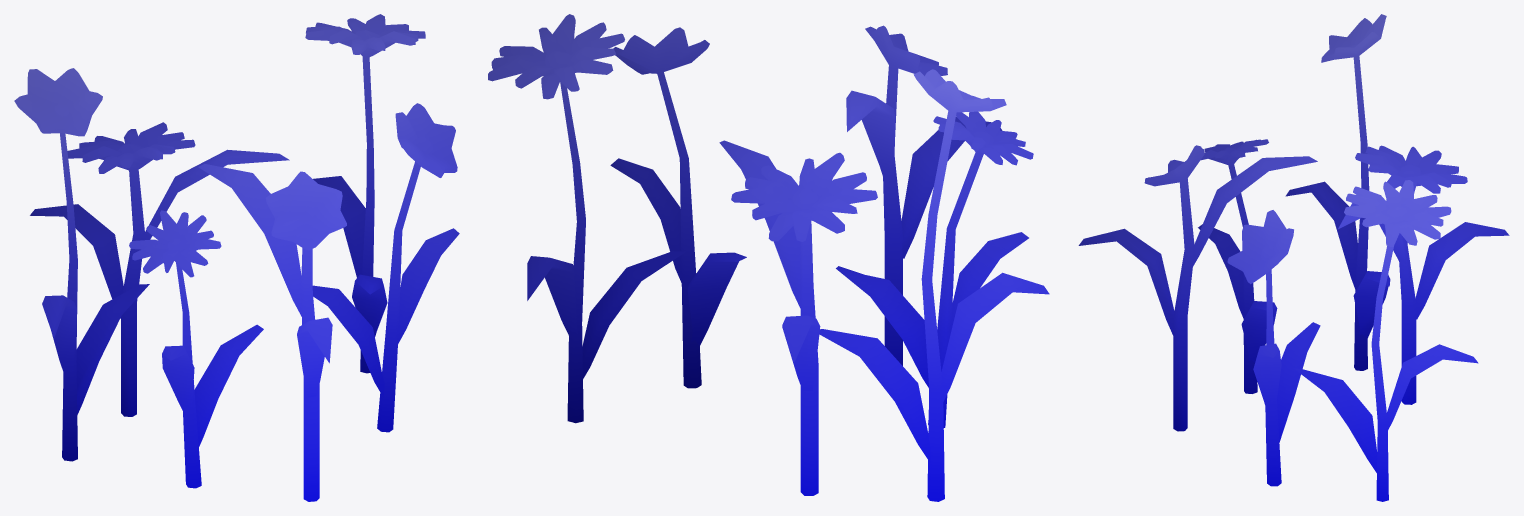
File: SM_Env_Wildflowers_02.FBX
3 renders of one model, left to right at view 1: azimuth 30°, elevation 25°; view 2: azimuth 150°, elevation 25°; view 3: azimuth 270°, elevation 25°, orthographic. The views are drawn at different scales.
Visible parts, largest first — view 1: SM_Env_Wildflowers_02; view 2: SM_Env_Wildflowers_02; view 3: SM_Env_Wildflowers_02.
Boxes of the visible parts, box(x1,y1,x2,y2) form: SM_Env_Wildflowers_02: box(14, 14, 459, 501); SM_Env_Wildflowers_02: box(488, 14, 1049, 501); SM_Env_Wildflowers_02: box(1078, 14, 1509, 501).
Size of the model in its own units: 73.64 by 72.04 by 63.25.
